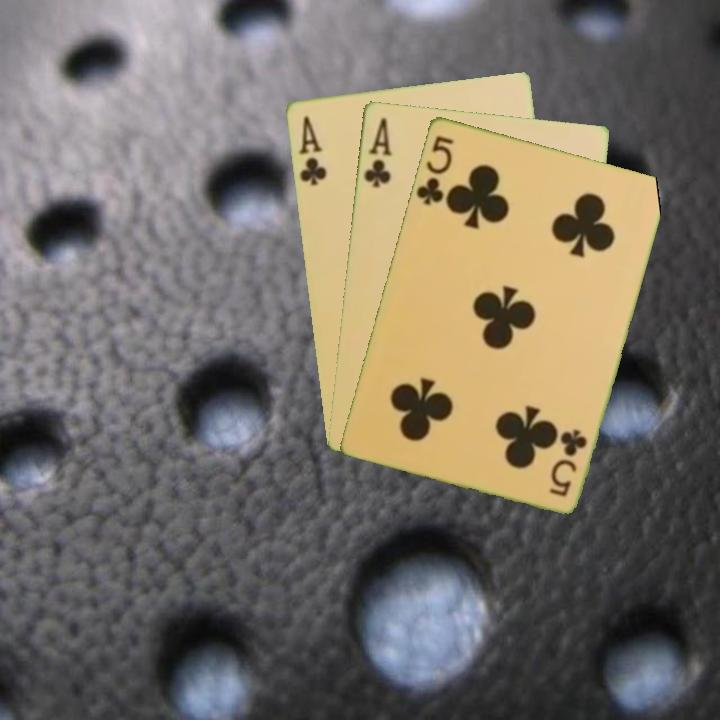5c: (412, 131, 456, 208), (545, 425, 590, 499)
Ac: (360, 114, 395, 191), (295, 112, 329, 188)
